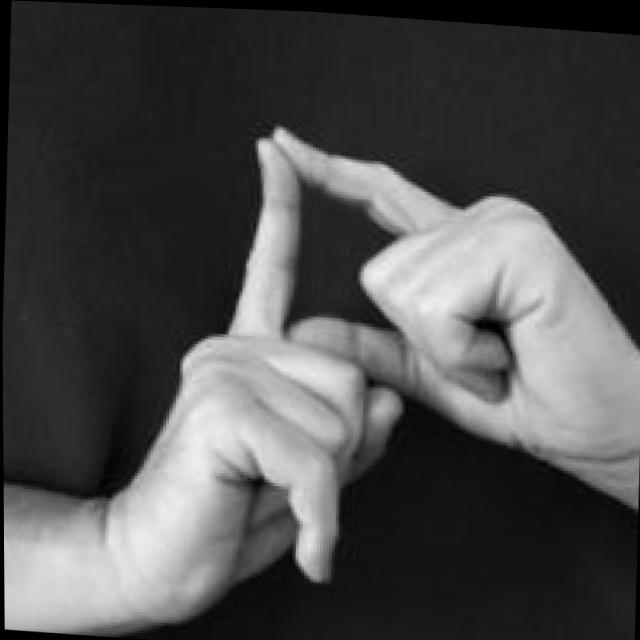D: (144, 114, 640, 640)
